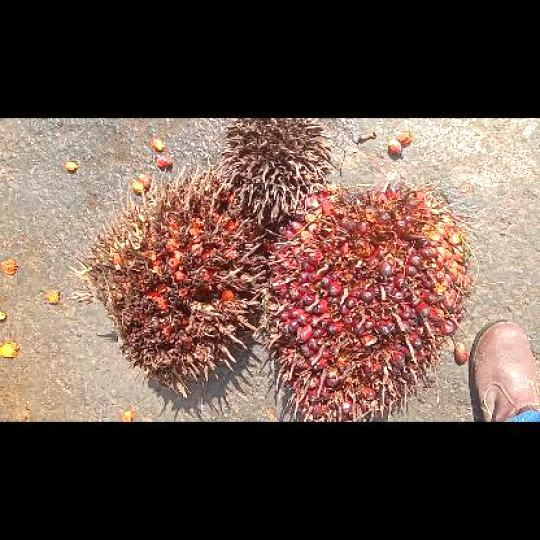masak: (252, 180, 472, 420)
terlalu masak: (71, 159, 272, 397)
